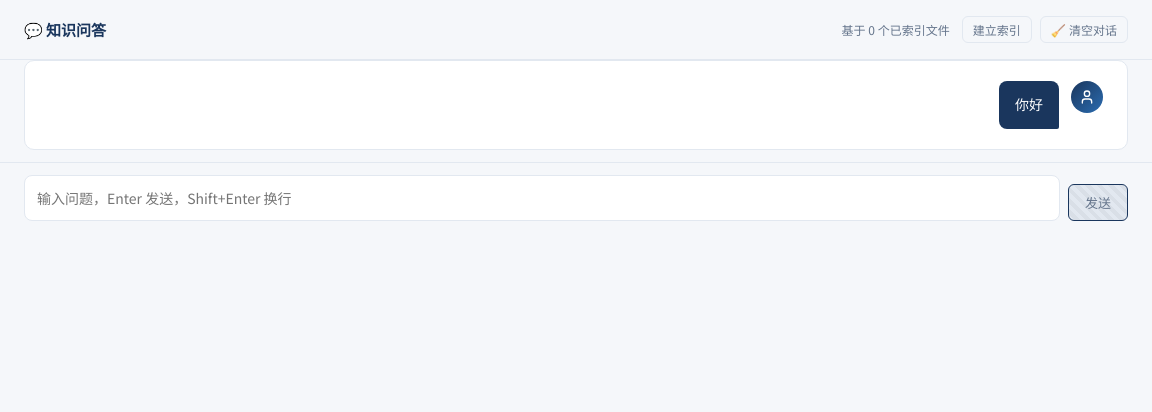
Scenario: ChatPage › renders messages and 清空对话 clears them
Expected: the text "你好" is shown, [999, 81, 1059, 129]
Step 1. Click the button "🧹 清空对话" → (1084,30), box [1040, 16, 1128, 43]
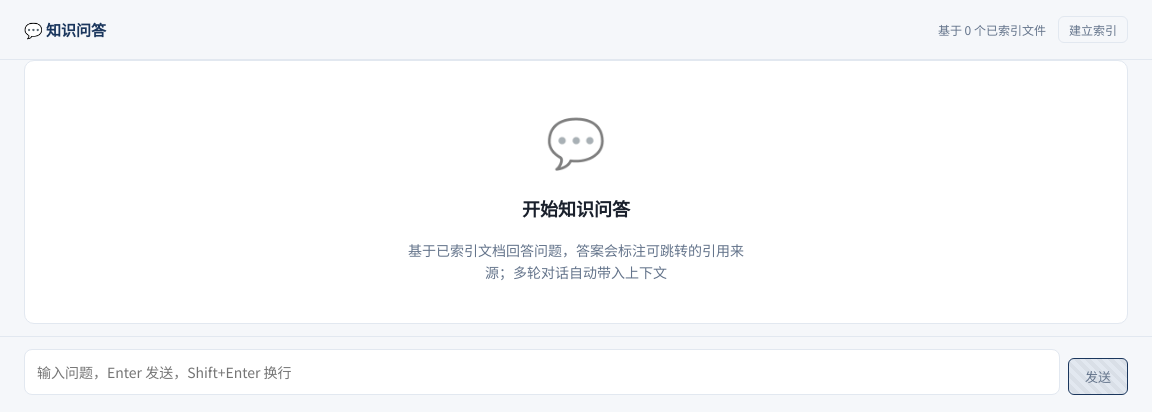
Expected: the heading "开始知识问答" is shown, [522, 194, 630, 223]
